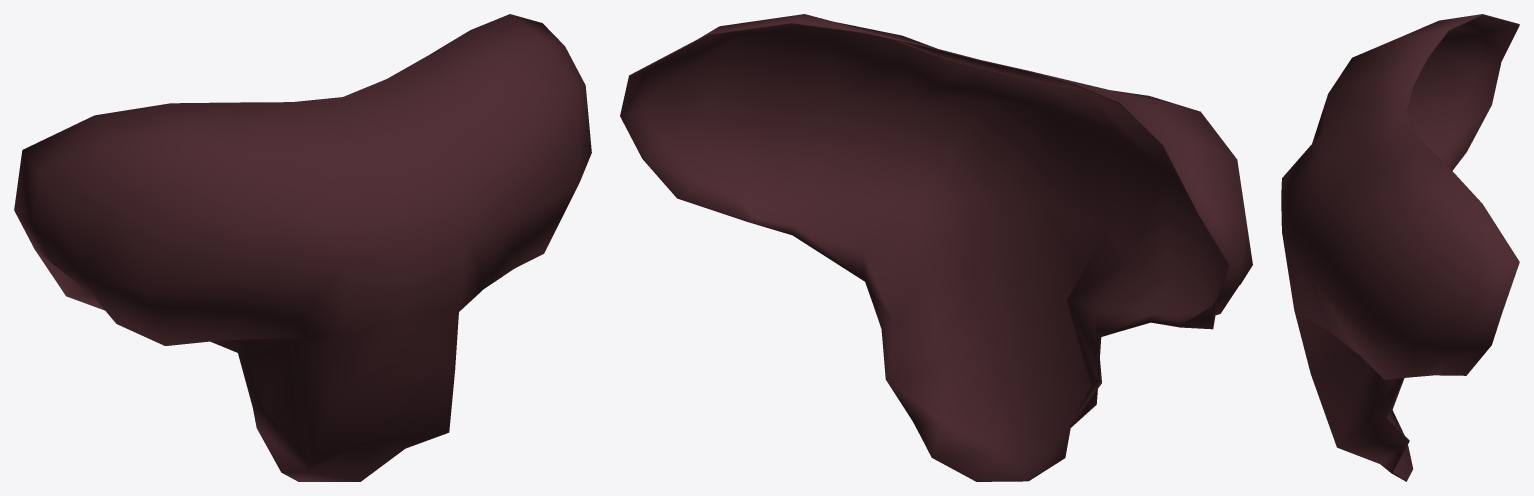
The model's file is nose.fbx.
3 views of the same model, side by side, from view 1: azimuth 30°, elevation 25°; view 2: azimuth 150°, elevation 25°; view 3: azimuth 270°, elevation 25° (orthographic). The views are drawn at different scales.
Parts seen in each view (by area): view 1: NoseLQ; view 2: NoseLQ; view 3: NoseLQ.
Part boxes in pixels (bbox=[...]): NoseLQ: bbox=[14, 14, 591, 481]; NoseLQ: bbox=[620, 14, 1252, 481]; NoseLQ: bbox=[1281, 14, 1519, 481].
Size of the model in its own units: 482 by 329 by 191.
